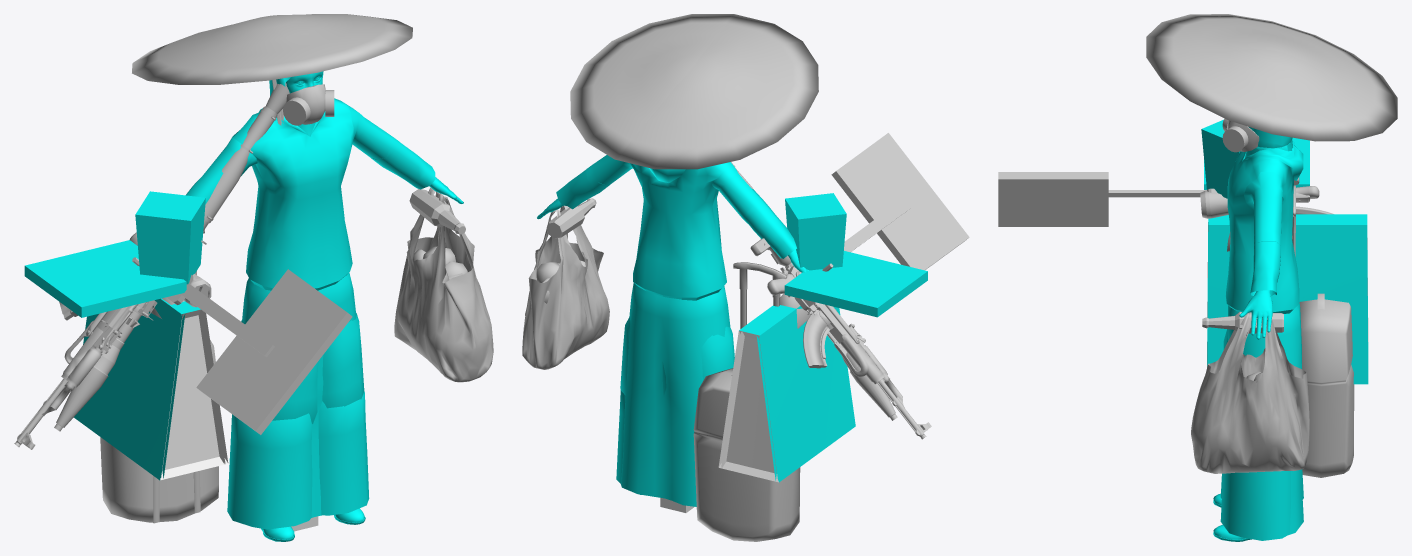
The model's file is civilian5_arab.dae.
3 renders of one model, left to right at view 1: azimuth 30°, elevation 25°; view 2: azimuth 150°, elevation 25°; view 3: azimuth 270°, elevation 25°, orthographic. The views are drawn at different scales.
Parts seen in each view (by area): view 1: Handbag06, UpBody, ProtestSign, ShoppingBag, Umbrella002, LowLeg1, Handbag02, trolley, Handbag01, LowLeg2, Umbrella1, ak47 (+12 smaller); view 2: Umbrella002, center, Umbrella1, UpBody, Handbag06, trolley, ProtestSign, ShoppingBag, Handbag02, Handbag03, ak47, Handbag05 (+11 smaller); view 3: Umbrella1, ShoppingBag, Handbag05, trolley, Umbrella002, UpBody, ProtestSign, LowLeg2, center, UpArm2, Handbag01, LowArm2 (+7 smaller).
Boxes of the visible parts, box(x1,y1,x2,y2) form: Handbag06: box(74, 298, 224, 480); UpBody: box(233, 98, 353, 290); ProtestSign: box(180, 269, 352, 434); ShoppingBag: box(394, 187, 493, 382); Umbrella002: box(132, 18, 359, 125); LowLeg1: box(227, 413, 312, 529); Handbag02: box(24, 240, 186, 317); trolley: box(100, 229, 218, 523); Handbag01: box(136, 191, 205, 284); LowLeg2: box(318, 391, 369, 515); Umbrella1: box(259, 14, 412, 123); ak47: box(14, 232, 138, 449); Umbrella002: box(617, 14, 818, 169); center: box(621, 283, 730, 506); Umbrella1: box(570, 14, 736, 159); UpBody: box(630, 162, 733, 300); Handbag06: box(722, 306, 855, 482); trolley: box(693, 262, 800, 541); ProtestSign: box(787, 133, 969, 297); ShoppingBag: box(522, 205, 609, 369); Handbag02: box(784, 251, 927, 317); Handbag03: box(722, 305, 799, 482); ak47: box(767, 266, 931, 439); Handbag05: box(718, 305, 776, 480); Umbrella1: box(1146, 49, 1397, 141); ShoppingBag: box(1191, 312, 1309, 473); Handbag05: box(1207, 223, 1368, 384); trolley: box(1292, 185, 1354, 477); Umbrella002: box(1146, 14, 1397, 116); UpBody: box(1226, 139, 1303, 313); ProtestSign: box(998, 172, 1206, 226); LowLeg2: box(1220, 471, 1290, 540); center: box(1228, 302, 1303, 534); UpArm2: box(1244, 172, 1283, 245); Handbag01: box(1201, 119, 1239, 198); LowArm2: box(1250, 242, 1280, 295).
Size of the model in its own units: 1029 by 1121 by 853.
